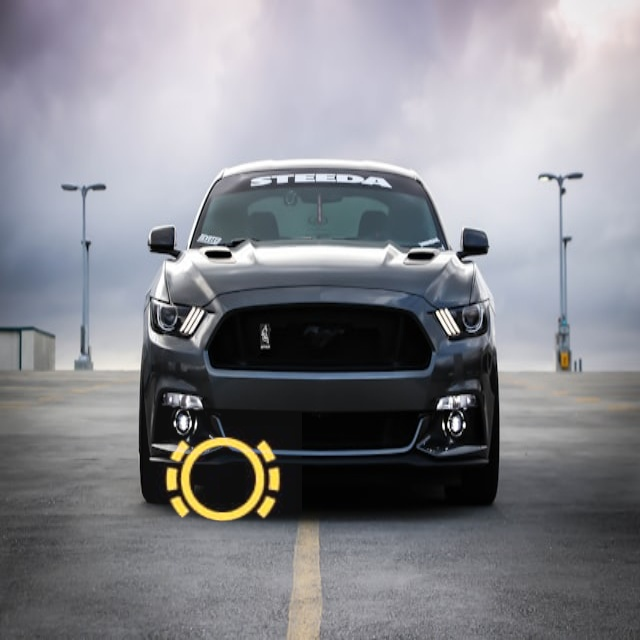symbol: (143, 401, 302, 560)
